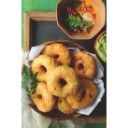vada: (49, 64, 78, 96), (68, 78, 99, 107), (31, 80, 56, 112), (71, 51, 98, 79), (32, 56, 58, 83), (45, 43, 71, 66)
